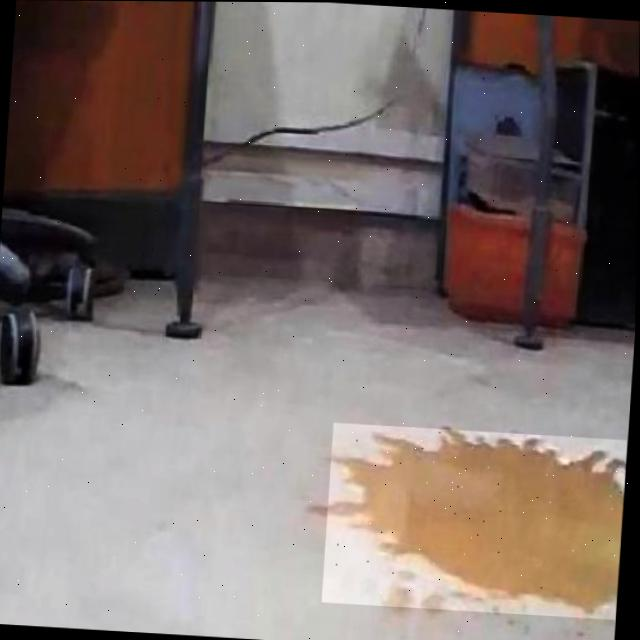spillage: (330, 430, 626, 617)
